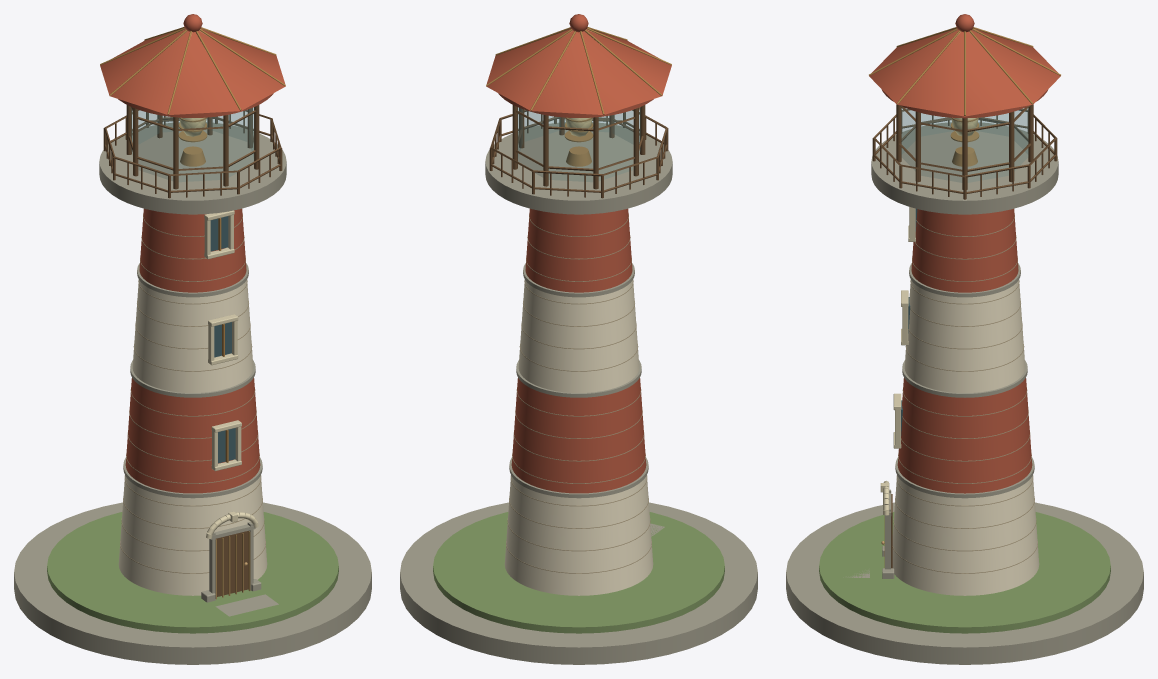
File: lighthouse-refined-v1.glb
3 views of the same model, side by side, from view 1: azimuth 30°, elevation 25°; view 2: azimuth 150°, elevation 25°; view 3: azimuth 270°, elevation 25° (orthographic).
Parts seen in each view (by area): view 1: Lighthouse_src_a6a290_surface, Lighthouse_src_ede3c7_surface, Lighthouse_src_b85e45_surface, Lighthouse_src_829a64_surface, Lighthouse_src_b95e43_surface, Lighthouse_src_705438_surface, Lighthouse_refined_lantern_glass, Lighthouse_refined_cream_trim, Lighthouse_refined_brass, Lighthouse_refined_mortar, Lighthouse_src_47646a_window, Lighthouse_src_ae8c57_surface; view 2: Lighthouse_src_a6a290_surface, Lighthouse_src_ede3c7_surface, Lighthouse_src_b85e45_surface, Lighthouse_src_829a64_surface, Lighthouse_src_b95e43_surface, Lighthouse_refined_lantern_glass, Lighthouse_src_705438_surface, Lighthouse_refined_mortar, Lighthouse_refined_brass; view 3: Lighthouse_src_a6a290_surface, Lighthouse_src_ede3c7_surface, Lighthouse_src_b85e45_surface, Lighthouse_src_829a64_surface, Lighthouse_src_b95e43_surface, Lighthouse_refined_lantern_glass, Lighthouse_src_705438_surface, Lighthouse_refined_mortar, Lighthouse_refined_brass, Lighthouse_refined_cream_trim.
Boxes of the visible parts, <box> form: Lighthouse_src_a6a290_surface: <box>14,122,371,664</box>; Lighthouse_src_ede3c7_surface: <box>118,279,267,595</box>; Lighthouse_src_b85e45_surface: <box>118,14,273,493</box>; Lighthouse_src_829a64_surface: <box>47,512,338,633</box>; Lighthouse_src_b95e43_surface: <box>100,29,285,114</box>; Lighthouse_src_705438_surface: <box>103,105,282,596</box>; Lighthouse_refined_lantern_glass: <box>131,107,253,181</box>; Lighthouse_refined_cream_trim: <box>204,210,258,538</box>; Lighthouse_refined_brass: <box>100,27,285,462</box>; Lighthouse_refined_mortar: <box>120,214,265,573</box>; Lighthouse_src_47646a_window: <box>210,216,235,463</box>; Lighthouse_src_ae8c57_surface: <box>215,531,250,599</box>; Lighthouse_src_a6a290_surface: <box>400,122,757,664</box>; Lighthouse_src_ede3c7_surface: <box>504,279,653,595</box>; Lighthouse_src_b85e45_surface: <box>498,14,653,493</box>; Lighthouse_src_829a64_surface: <box>433,512,724,633</box>; Lighthouse_src_b95e43_surface: <box>486,29,671,114</box>; Lighthouse_refined_lantern_glass: <box>518,107,640,181</box>; Lighthouse_src_705438_surface: <box>489,105,668,198</box>; Lighthouse_refined_mortar: <box>506,214,651,573</box>; Lighthouse_refined_brass: <box>486,27,671,166</box>; Lighthouse_src_a6a290_surface: <box>786,122,1143,664</box>; Lighthouse_src_ede3c7_surface: <box>892,279,1039,595</box>; Lighthouse_src_b85e45_surface: <box>881,14,1048,493</box>; Lighthouse_src_829a64_surface: <box>819,512,1110,633</box>; Lighthouse_src_b95e43_surface: <box>869,30,1060,116</box>; Lighthouse_refined_lantern_glass: <box>901,108,1028,182</box>; Lighthouse_src_705438_surface: <box>872,104,1057,568</box>; Lighthouse_refined_mortar: <box>892,214,1037,573</box>; Lighthouse_refined_brass: <box>869,27,1060,166</box>; Lighthouse_refined_cream_trim: <box>880,207,915,515</box>.
Bounding box in the file's own units: 13 × 23.04 × 13.
